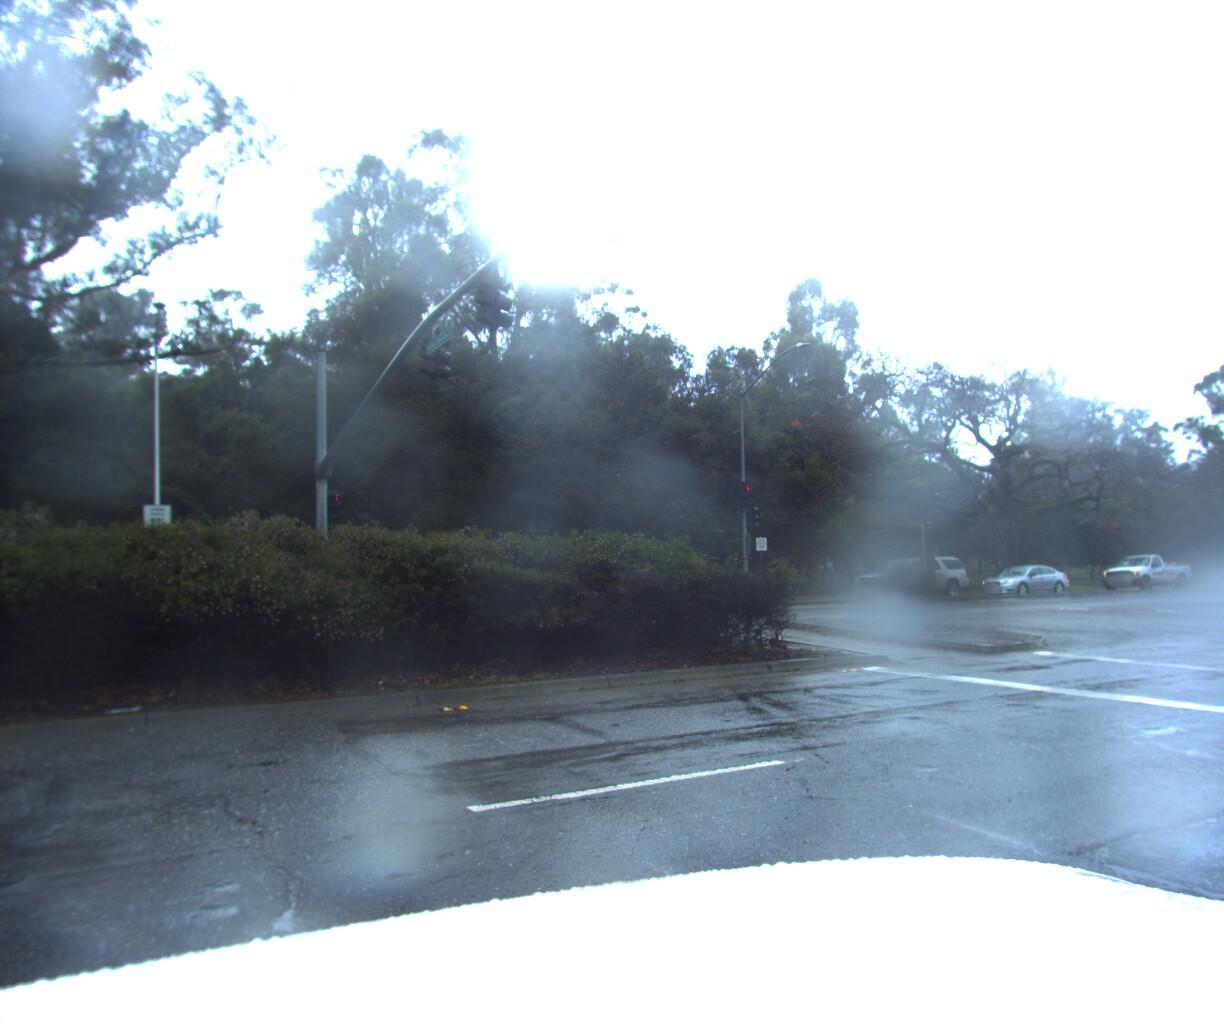car: (846, 554, 972, 601), (1091, 548, 1194, 589), (973, 564, 1069, 596)
